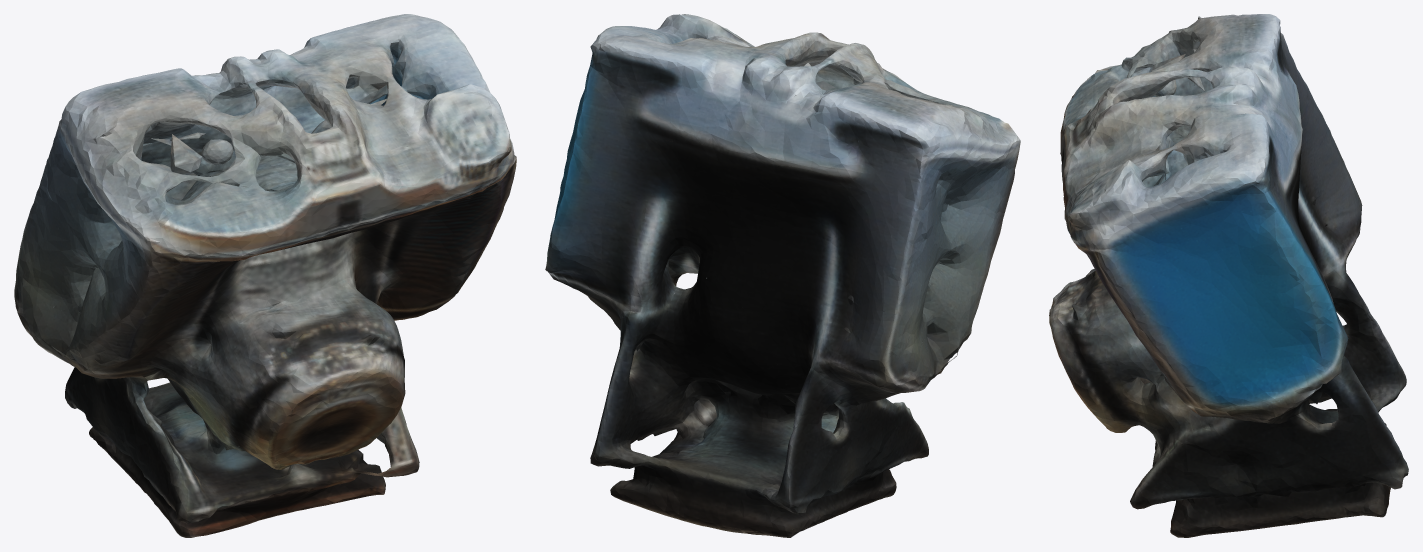
File: camera.glb
The picture shows the model from 3 angles, left to right: view 1: azimuth 30°, elevation 25°; view 2: azimuth 150°, elevation 25°; view 3: azimuth 270°, elevation 25°; orthographic projection. The views are drawn at different scales.
Bounding box in the file's own units: 0.9516 × 1.01 × 0.7823.
1 material, 1 textured.
